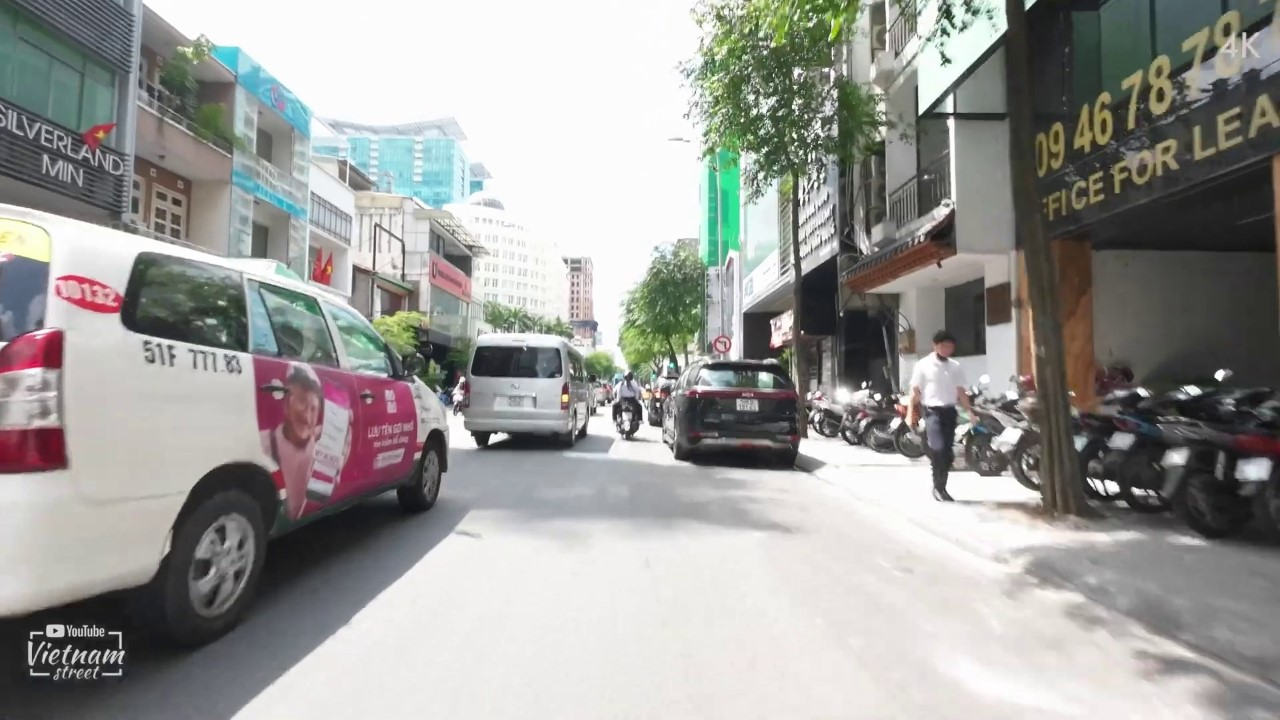cam_re_trai: (713, 335, 732, 354)
